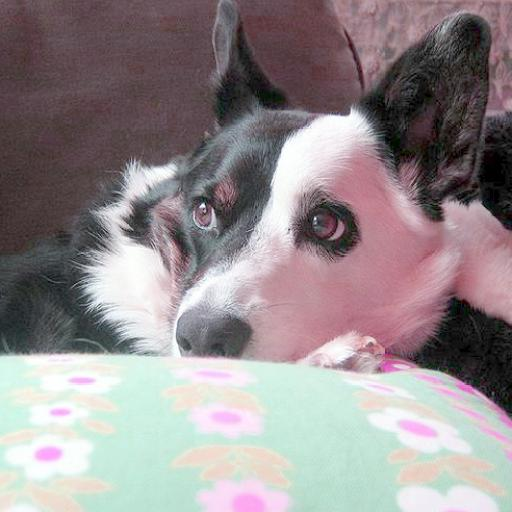dog_face: (120, 23, 485, 366)
